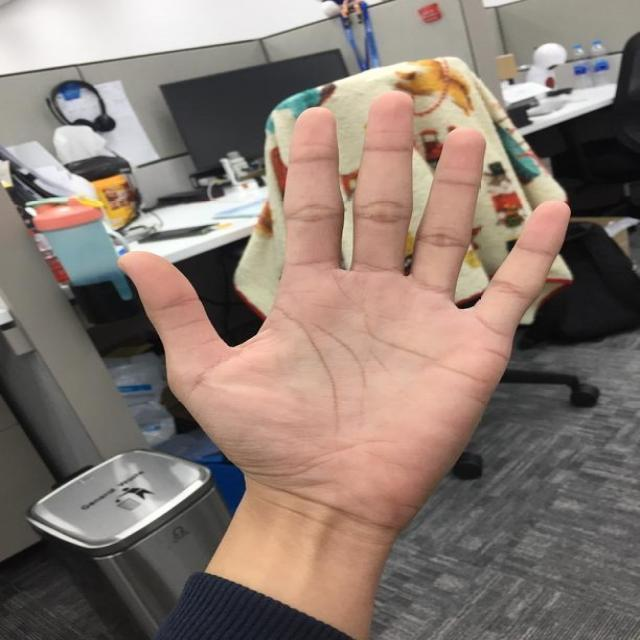hand: (119, 88, 572, 531)
